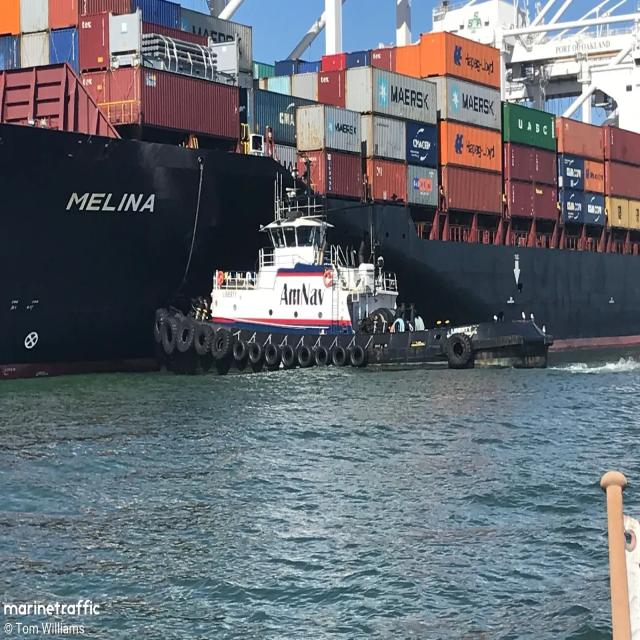Tug: (154, 187, 552, 374)
